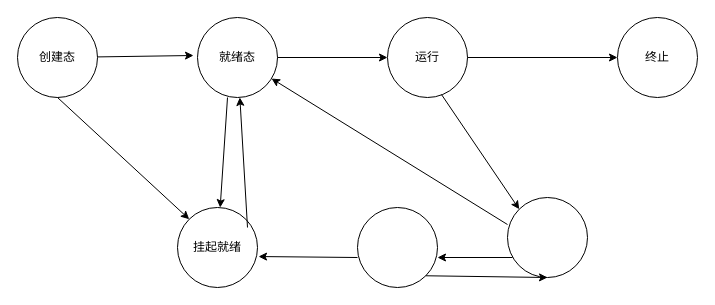
Image size: 715x305. Some labels were removed from this diagram. Here are the shapes that lost their labels. From the top down, the centre of each, then its label:
At pixel 397 247: "挂起等待".
At pixel 547 237: "等待".
